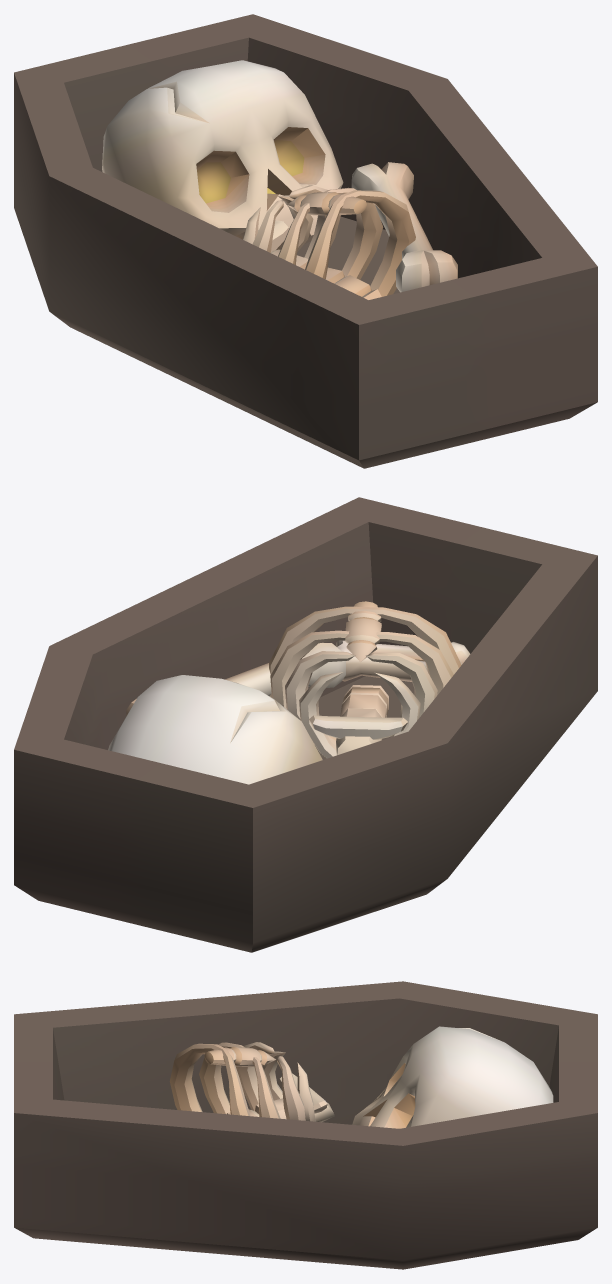
The model's file is h_coffin_decorated.glb.
3 views of the same model, one above another, from view 1: azimuth 30°, elevation 25°; view 2: azimuth 150°, elevation 25°; view 3: azimuth 270°, elevation 25° (orthographic). The views are drawn at different scales.
Parts seen in each view (by area): view 1: coffin_decorated; view 2: coffin_decorated; view 3: coffin_decorated.
Boxes of the visible parts, x1=… form: coffin_decorated: x1=14, y1=14, x2=597, y2=468; coffin_decorated: x1=14, y1=497, x2=597, y2=952; coffin_decorated: x1=14, y1=981, x2=597, y2=1269.
Bounding box in the file's own units: 2 × 0.9025 × 3.
1 material, 1 textured.
